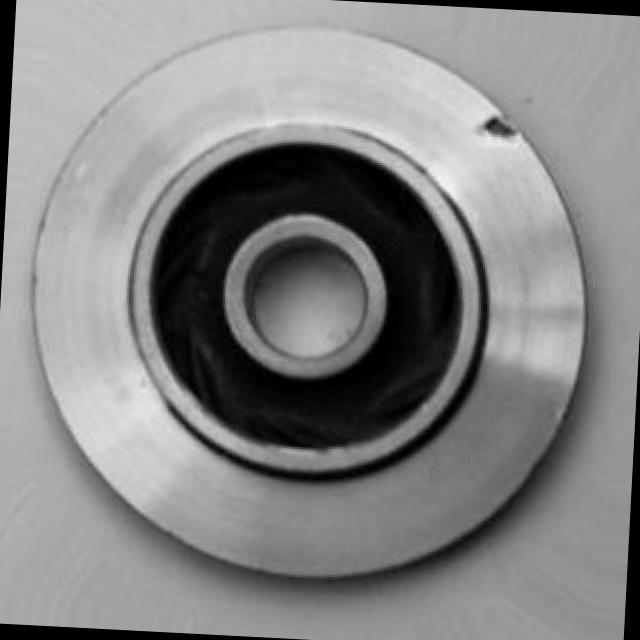Defect: (481, 112, 520, 148)
